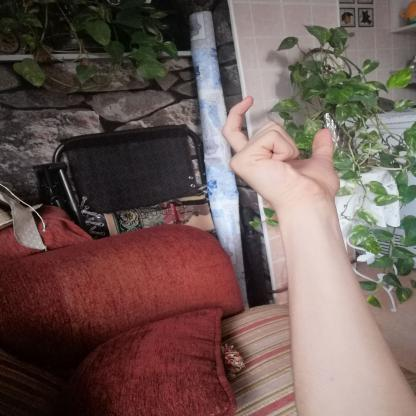NOON: (204, 84, 352, 219)
